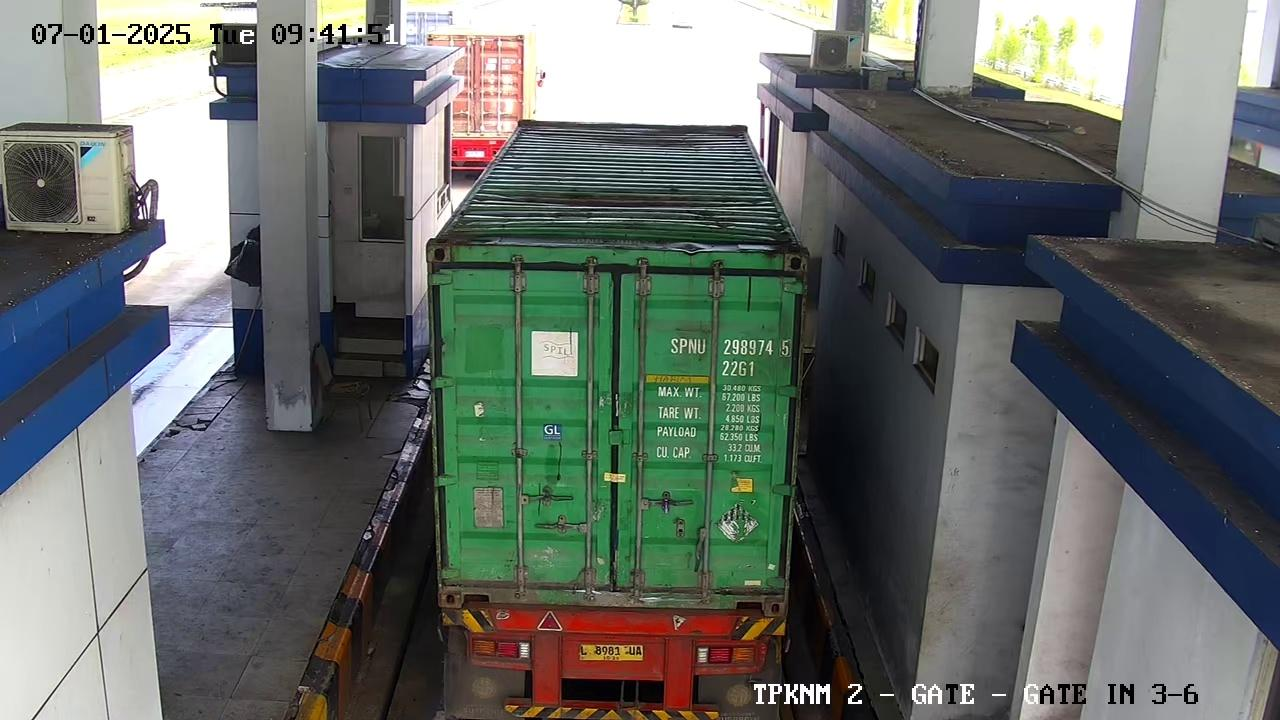Container_ID: (660, 332, 798, 362)
plate_number: (571, 635, 648, 675)
